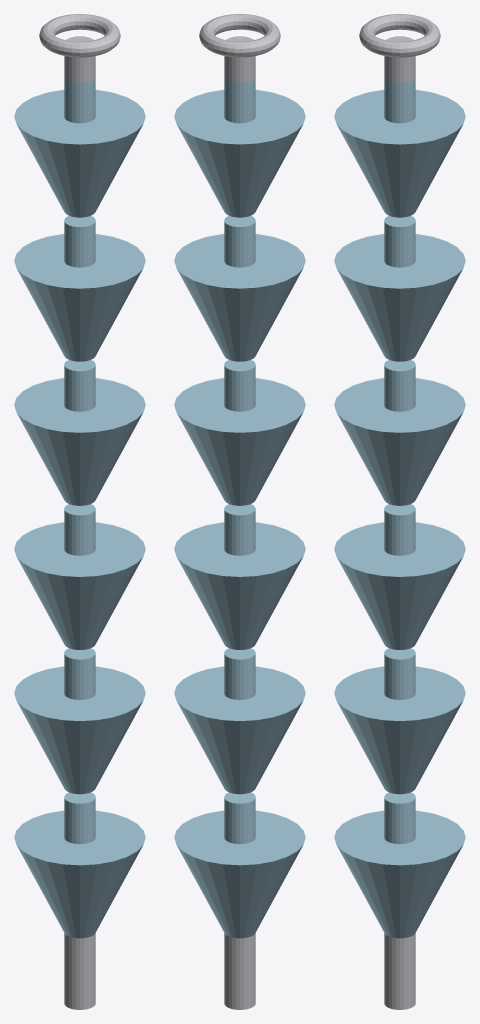
File: Cadena_817mm.fbx
3 renders of one model, left to right at view 1: azimuth 90°, elevation 25°; view 2: azimuth 150°, elevation 25°; view 3: azimuth 270°, elevation 25°, orthographic.
Visible parts, largest first — view 1: Cadena_817mm; view 2: Cadena_817mm; view 3: Cadena_817mm.
Boxes of the visible parts, box(x1,y1,x2,y2) form: Cadena_817mm: box(14, 14, 145, 1009); Cadena_817mm: box(174, 14, 305, 1009); Cadena_817mm: box(334, 14, 465, 1009).
Size of the model in its own units: 10 by 81.7 by 10.
